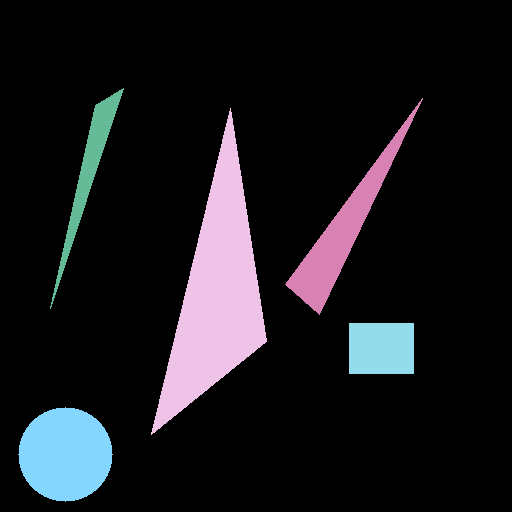circle: (18, 407, 112, 501)
rectangle: (349, 323, 413, 373)
triangle: (151, 108, 266, 434), (285, 98, 422, 314), (50, 88, 123, 308)
